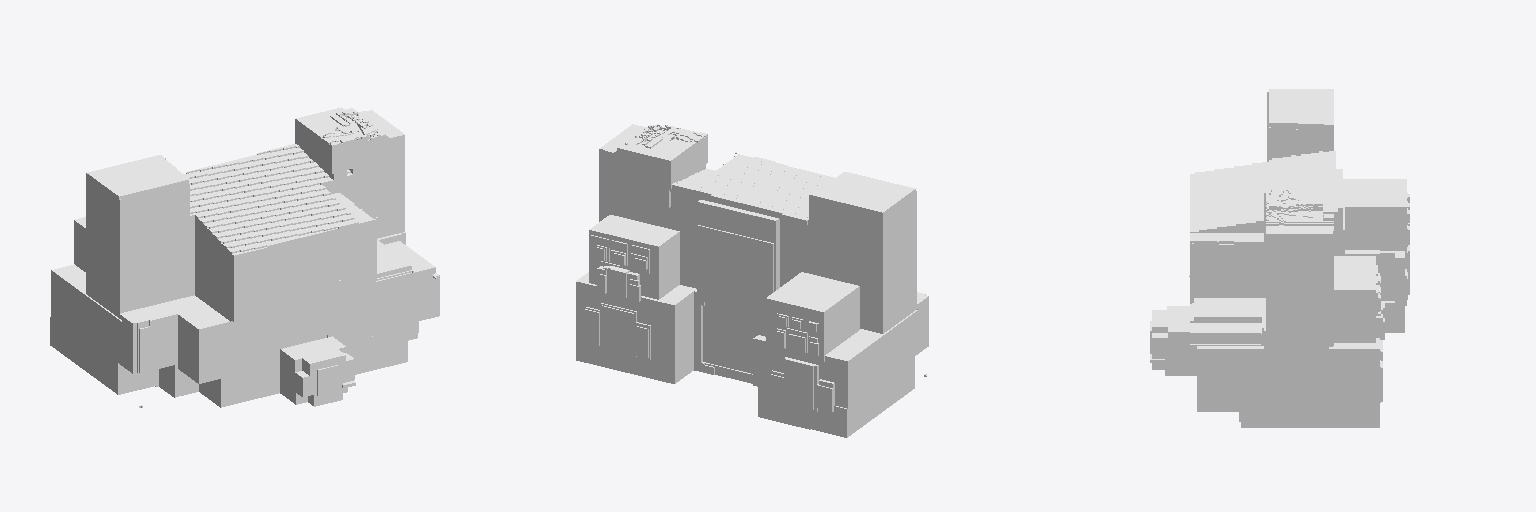
Rendered from ToyBear-0.obj.
The picture shows the model from 3 angles: view 1: azimuth 30°, elevation 25°; view 2: azimuth 150°, elevation 25°; view 3: azimuth 270°, elevation 25°; orthographic projection.
Visible parts, largest first — view 1: object 1; view 2: object 1; view 3: object 1.
Boxes of the visible parts, x1=… form: object 1: x1=50, y1=107, x2=439, y2=407; object 1: x1=576, y1=124, x2=928, y2=437; object 1: x1=1150, y1=89, x2=1409, y2=427.
Bounding box in the file's own units: 19.6 × 13.5 × 15.5.